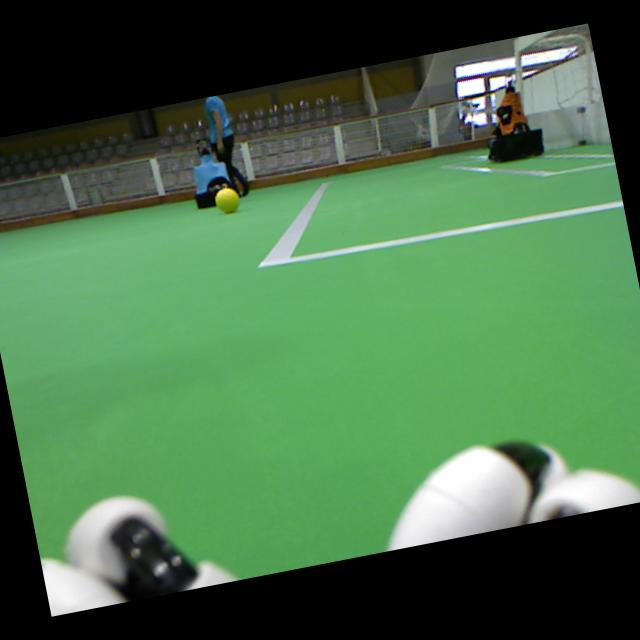ball: (218, 189, 239, 212)
robot: (489, 73, 543, 164)
